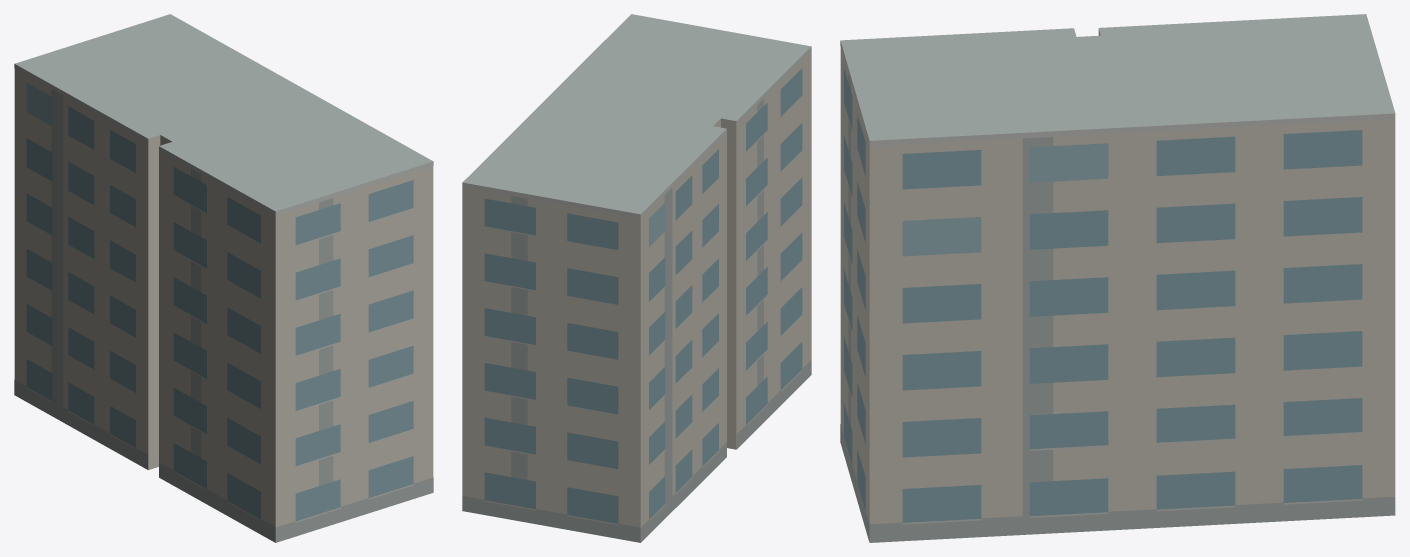
File: residential-b6363447-32c5-4c62-80c8-37c18f4b40ff.glb
The picture shows the model from 3 angles, left to right: view 1: azimuth 30°, elevation 25°; view 2: azimuth 150°, elevation 25°; view 3: azimuth 270°, elevation 25°; orthographic projection. The views are drawn at different scales.
Parts seen in each view (by area): view 1: residential-b6363447-32c5-4c62-80c8-37c18f4b40ff.tmp; view 2: residential-b6363447-32c5-4c62-80c8-37c18f4b40ff.tmp; view 3: residential-b6363447-32c5-4c62-80c8-37c18f4b40ff.tmp.
Boxes of the visible parts, left/top/right/bottom form: residential-b6363447-32c5-4c62-80c8-37c18f4b40ff.tmp: left=14, top=14, right=433, bottom=542; residential-b6363447-32c5-4c62-80c8-37c18f4b40ff.tmp: left=462, top=14, right=811, bottom=542; residential-b6363447-32c5-4c62-80c8-37c18f4b40ff.tmp: left=840, top=14, right=1395, bottom=542.
Size of the model in its own units: 11.71 by 17.3 by 21.65.
